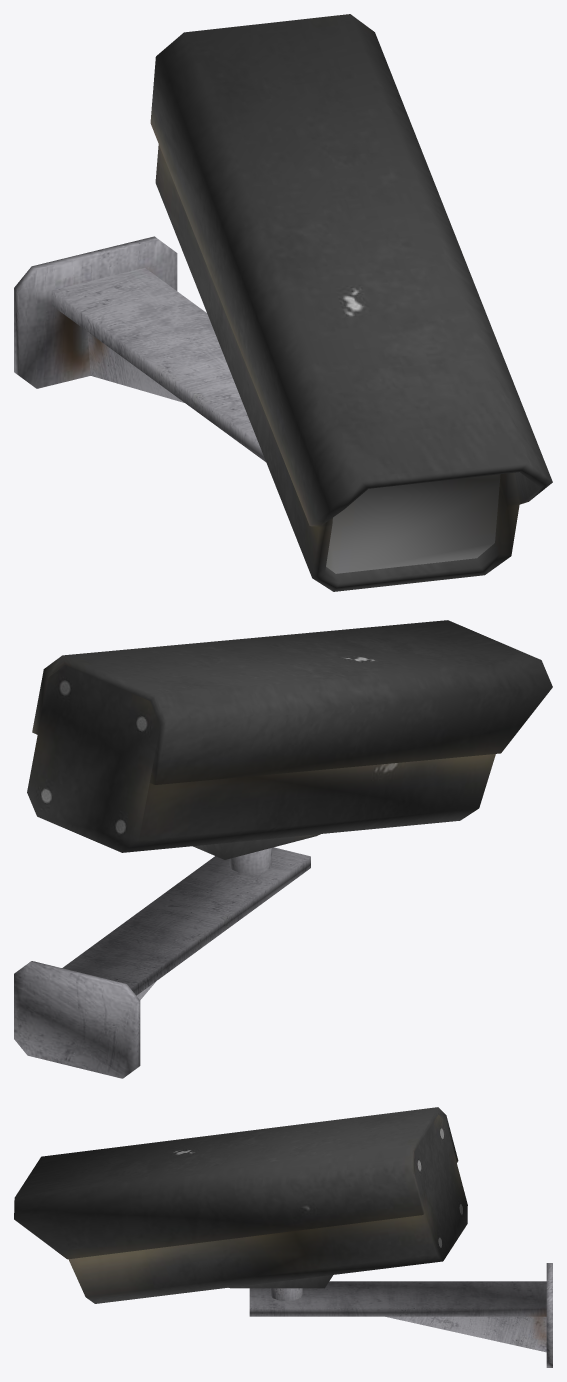
Rendered from wall_camera.glb.
The picture shows the model from 3 angles, top to bottom: view 1: azimuth 30°, elevation 25°; view 2: azimuth 150°, elevation 25°; view 3: azimuth 270°, elevation 25°; orthographic projection. The views are drawn at different scales.
Parts seen in each view (by area): view 1: wall_camera; view 2: wall_camera; view 3: wall_camera.
Part boxes in pixels (<box>): wall_camera: <box>14,14,552,591</box>; wall_camera: <box>14,620,552,1078</box>; wall_camera: <box>14,1107,552,1367</box>.
Size of the model in its own units: 0.1815 by 0.2008 by 0.4066.
Materials: 2 (2 with a texture image).
